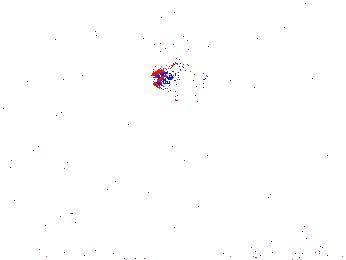flame jellyfish: (145, 152, 208, 224), (4, 167, 77, 221), (151, 58, 211, 103)
